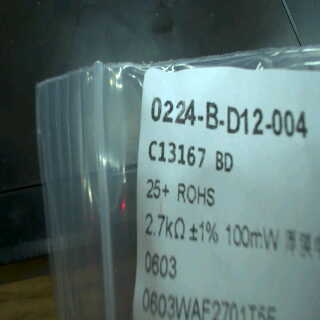2.7kR: (144, 210, 187, 243)
